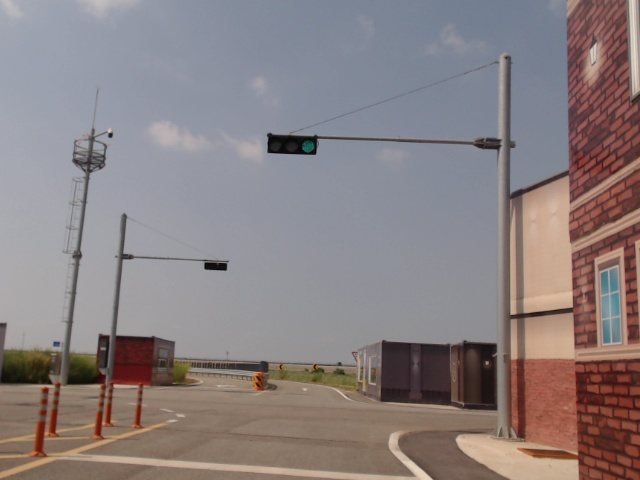green_3: (269, 136, 317, 155)
